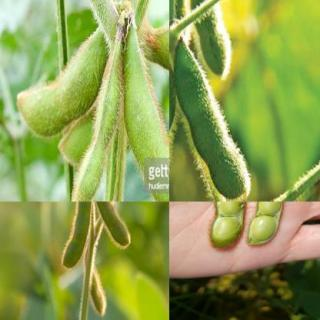soya: (174, 42, 251, 200), (17, 30, 104, 138), (69, 41, 123, 201), (124, 44, 168, 201), (187, 0, 233, 78), (61, 202, 92, 269), (204, 201, 244, 247), (93, 202, 131, 248), (248, 202, 284, 246), (144, 19, 168, 69), (90, 271, 105, 314)
